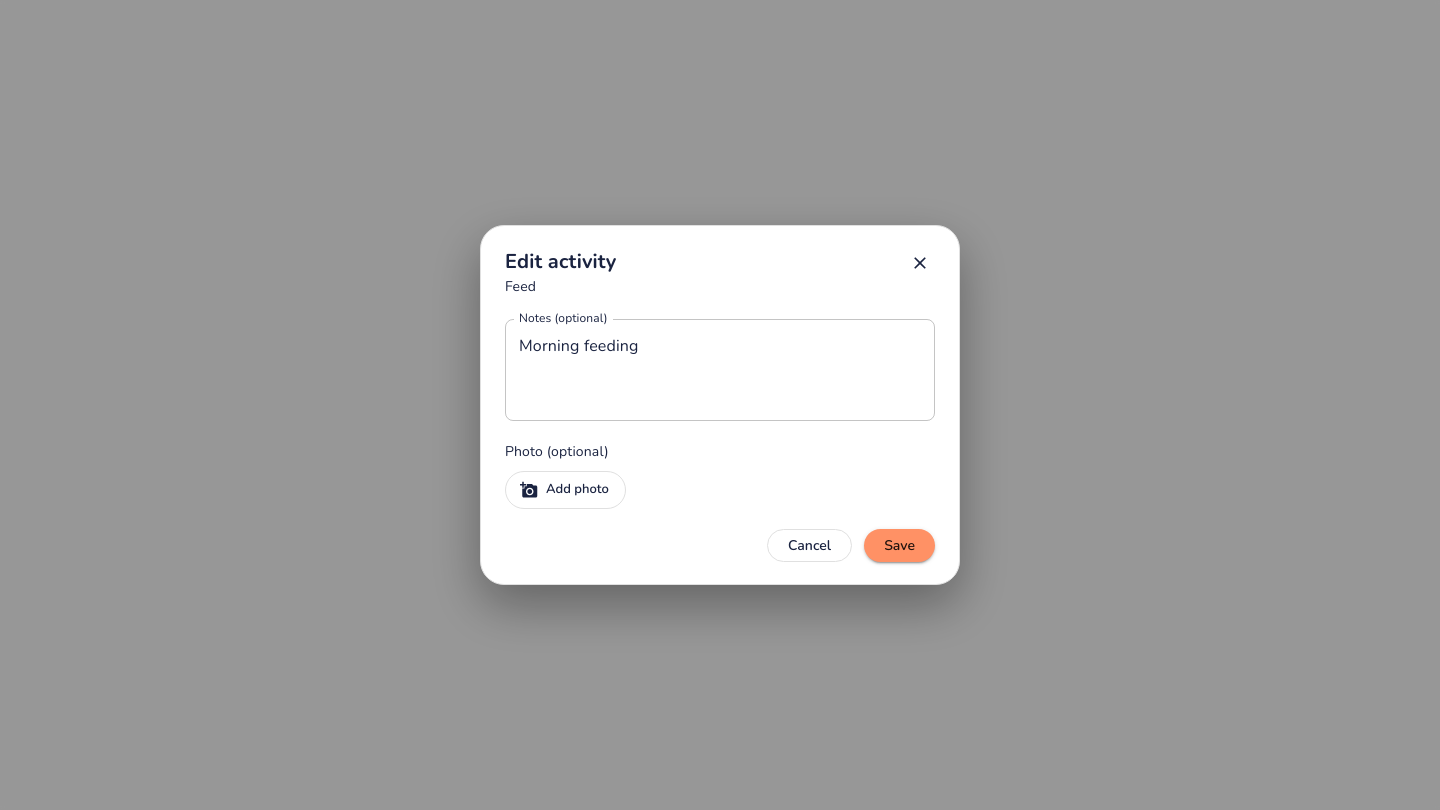
Test case: EditActivityModal › Saving › shows error message on save failure
Replace the text in the text box labelled "Notes (optional)" with "Updated notes". click: (720, 370)
box: [519,335,921,404]
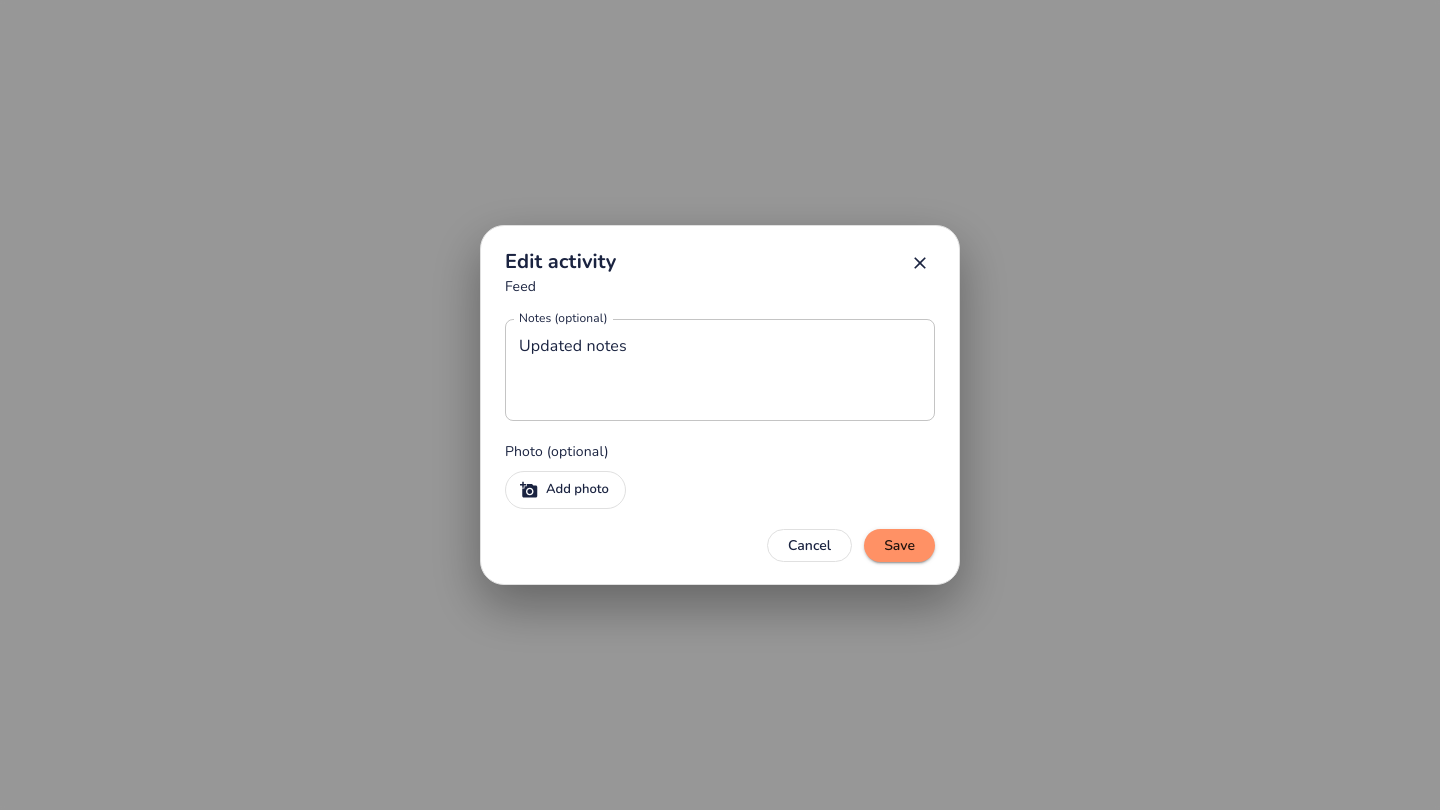
Click the button "Save". click: (900, 545)
box: [864,529,935,562]
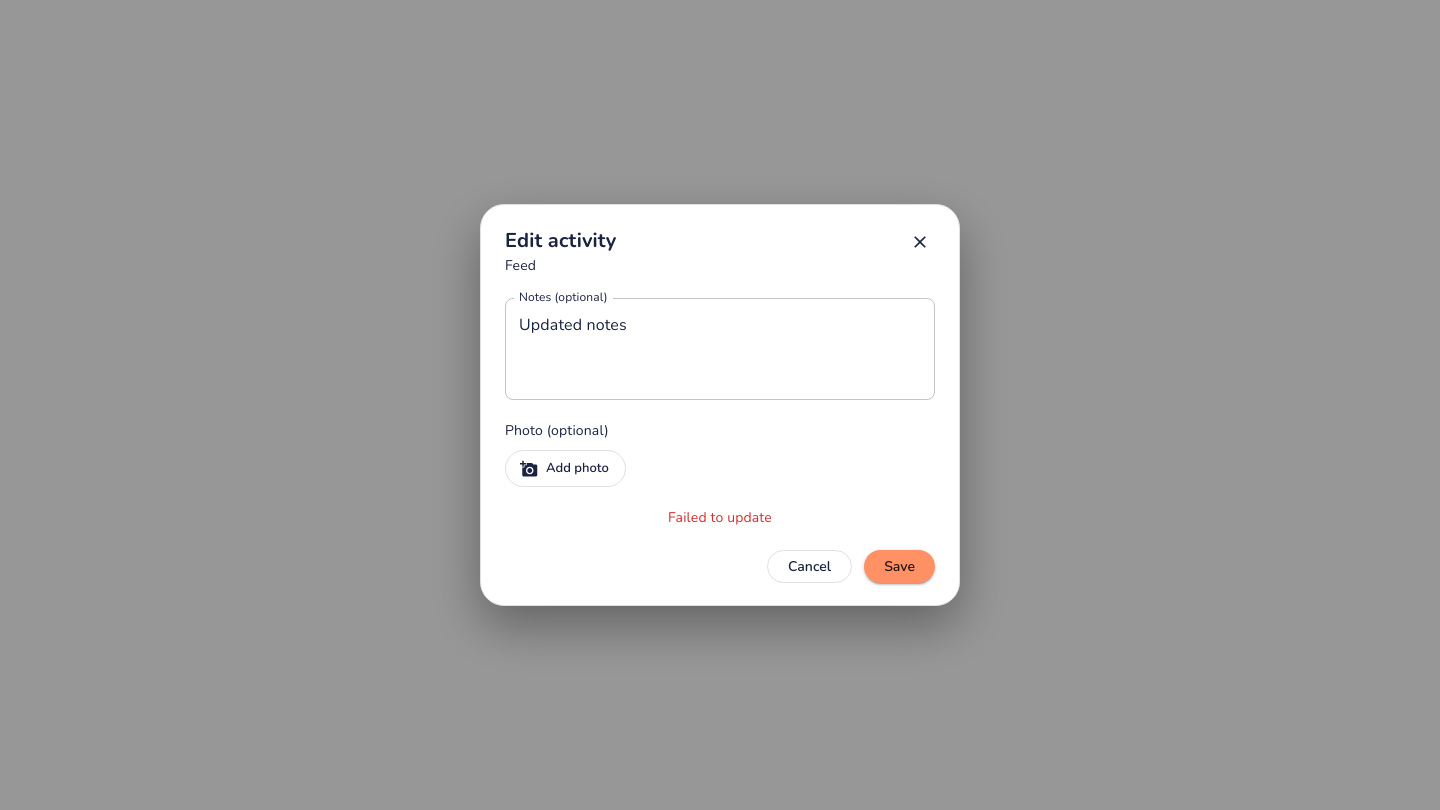
Check: the text "Failed to update" is shown, box [668,508,772,527]
